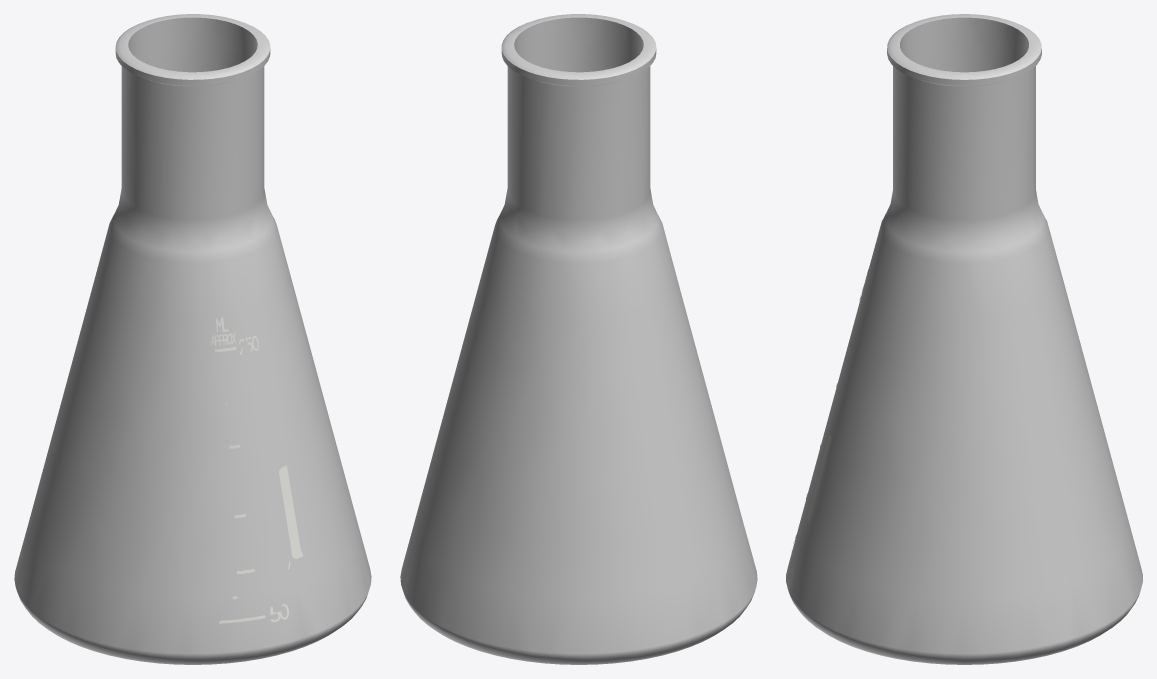
File: erlenmeyer-reference.glb
The picture shows the model from 3 angles, left to right: view 1: azimuth 30°, elevation 25°; view 2: azimuth 150°, elevation 25°; view 3: azimuth 270°, elevation 25°; orthographic projection.
Visible parts, largest first — view 1: Erlenmeyer flask 250 ml, Scale; view 2: Erlenmeyer flask 250 ml; view 3: Erlenmeyer flask 250 ml, Scale.
Part boxes in pixels (x1,y1,x2,y2): Erlenmeyer flask 250 ml: (14, 14, 371, 664); Scale: (211, 317, 303, 623); Erlenmeyer flask 250 ml: (400, 14, 757, 664); Erlenmeyer flask 250 ml: (786, 14, 1142, 664); Scale: (791, 269, 868, 560).
Size of the model in its own units: 0.0849 by 0.145 by 0.0848.
2 materials, 1 textured.
